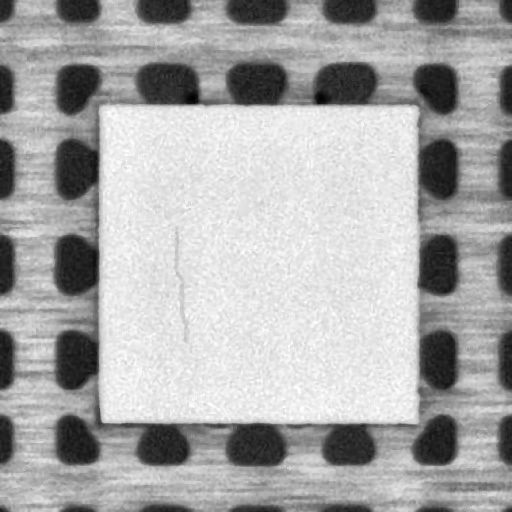DIE_CRACK: (174, 227, 192, 347)
